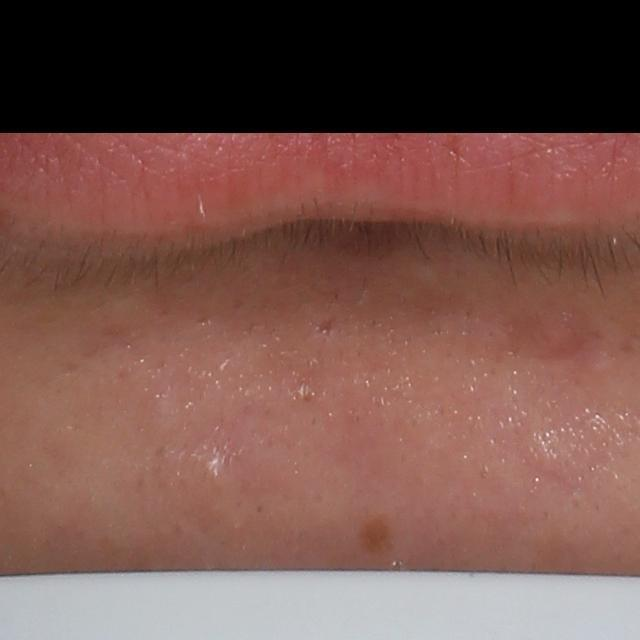atrophic_scar: (312, 310, 343, 338)
